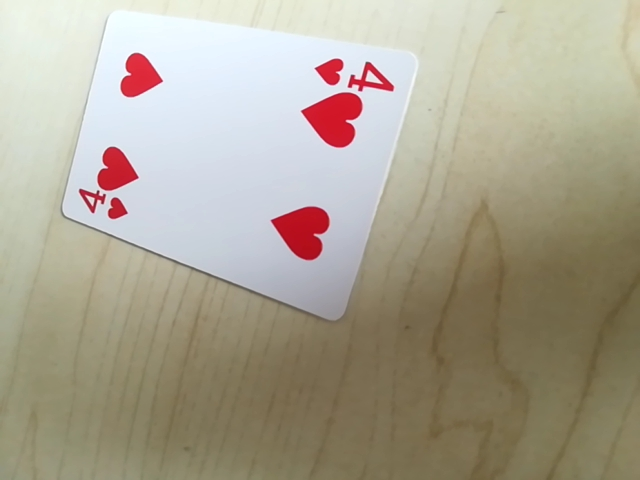hx 4: (311, 54, 397, 94), (72, 187, 136, 227)
